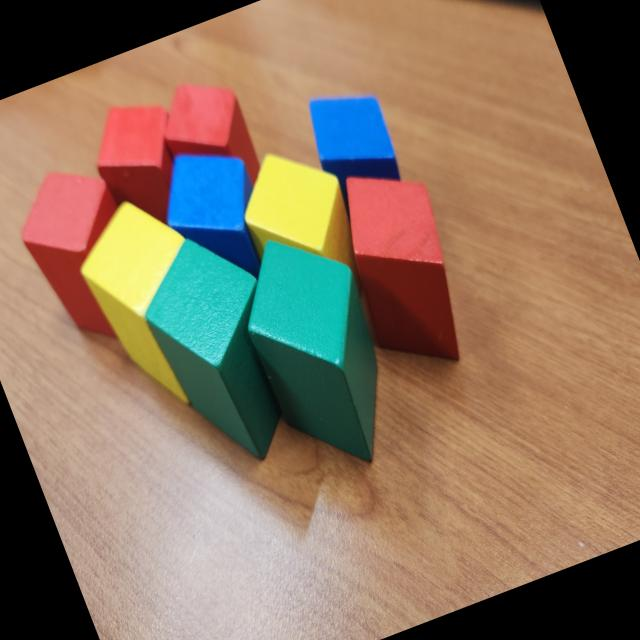blue: (144, 130, 290, 301), (296, 77, 409, 208)
green: (220, 213, 424, 488), (120, 217, 323, 483)
red: (316, 150, 494, 389), (2, 151, 165, 357), (146, 65, 278, 231), (76, 87, 206, 240)
yellow: (61, 183, 242, 425), (224, 132, 374, 309)
